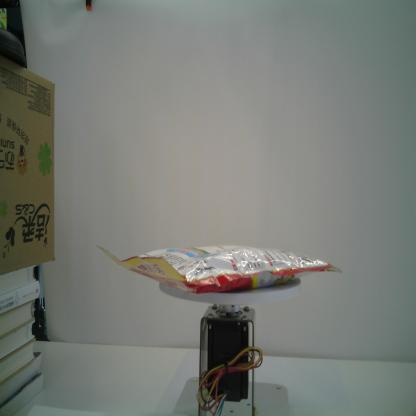Instant Drink: (95, 244, 342, 294)
